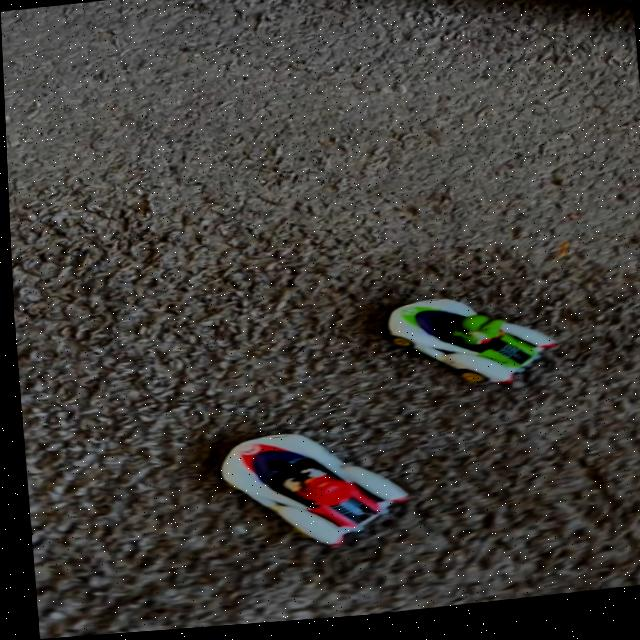mario: (191, 409, 428, 578)
yoshi: (359, 266, 581, 426)
